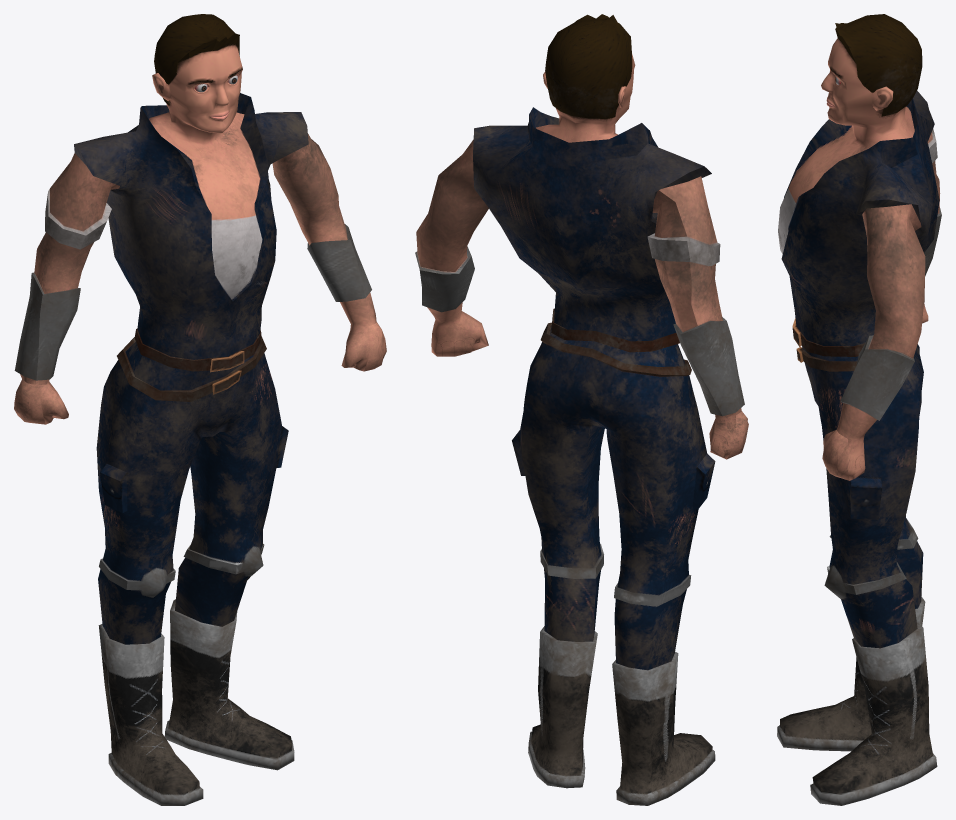
File: Anim_interruptor_jugador.0037.obj
3 renders of one model, left to right at view 1: azimuth 30°, elevation 25°; view 2: azimuth 150°, elevation 25°; view 3: azimuth 270°, elevation 25°, orthographic.
Visible parts, largest first — view 1: polySurface1; view 2: polySurface1; view 3: polySurface1.
Boxes of the visible parts, bbox=[...] form: polySurface1: bbox=[14, 14, 386, 805]; polySurface1: bbox=[415, 14, 748, 805]; polySurface1: bbox=[777, 14, 941, 805].
Size of the model in its own units: 4.58 by 9.64 by 1.92.
